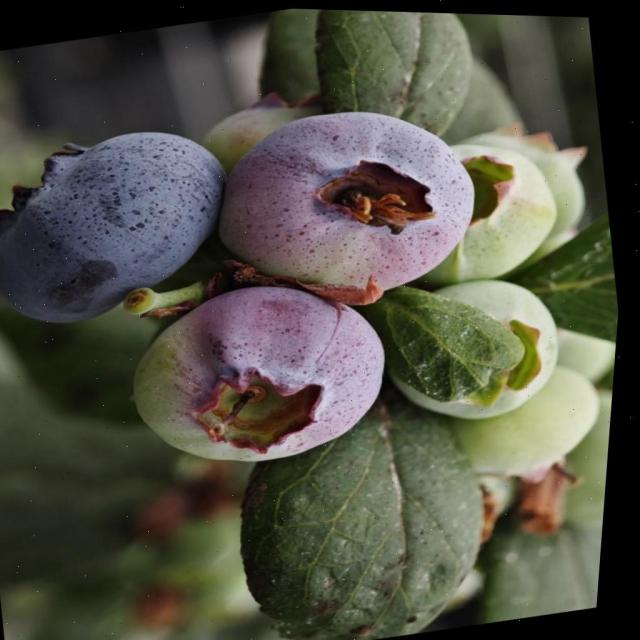RipeBlueBerry: (0, 112, 254, 342)
Semi-RipeBlueBerry: (196, 83, 501, 319), (112, 257, 416, 487)
